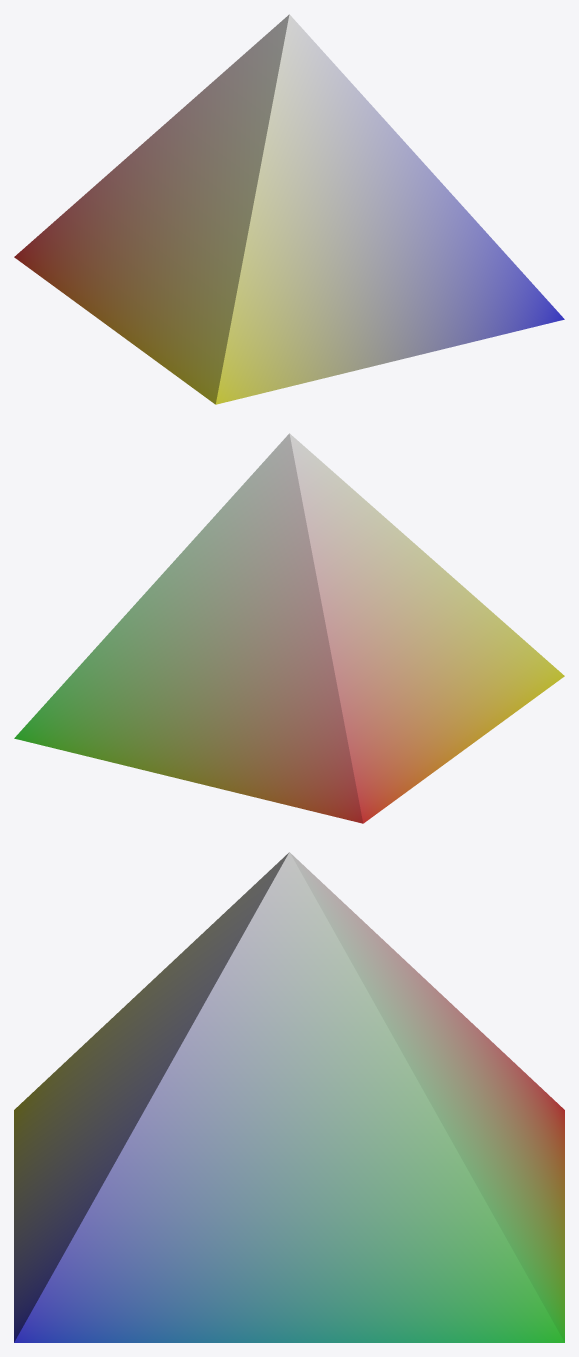
The picture shows the model from 3 angles, top to bottom: view 1: azimuth 30°, elevation 25°; view 2: azimuth 150°, elevation 25°; view 3: azimuth 270°, elevation 25°; orthographic projection. The views are drawn at different scales.
Visible parts, largest first — view 1: Sides; view 2: Sides; view 3: Sides.
Part boxes in pixels (left/top/right/bottom): Sides: left=14, top=14, right=564, bottom=404; Sides: left=14, top=433, right=564, bottom=823; Sides: left=14, top=852, right=564, bottom=1342.
Size of the model in its own units: 2 by 1.5 by 2.
